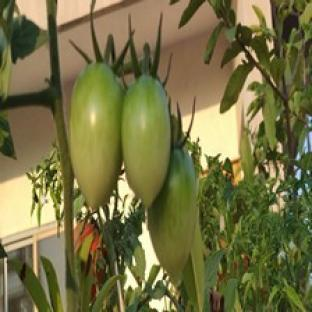Tomato: (70, 63, 123, 208), (148, 150, 197, 282), (122, 76, 171, 207)
